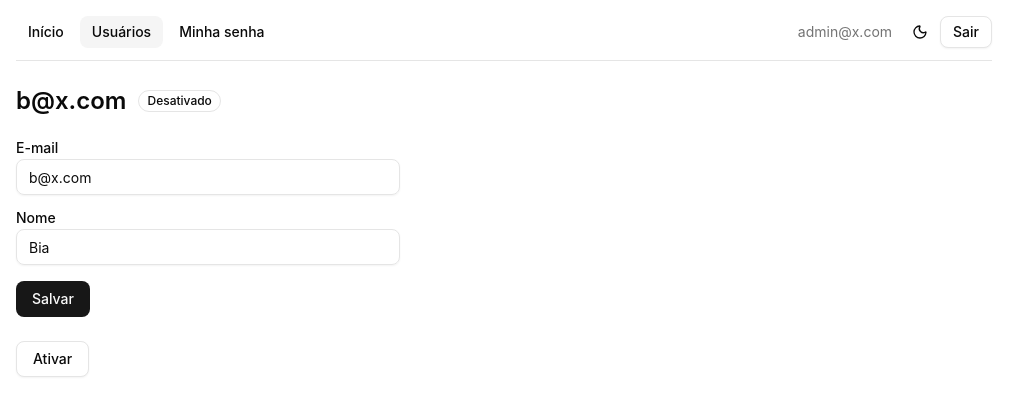
Test: UserDetail on /users/$id › activates
This screenshot has width=1009, height=394.
Expected: the text "Desativado" is shown, 138,90 -> 221,112
Click the button "Ativar" at (53,359), box 16,341 -> 89,377
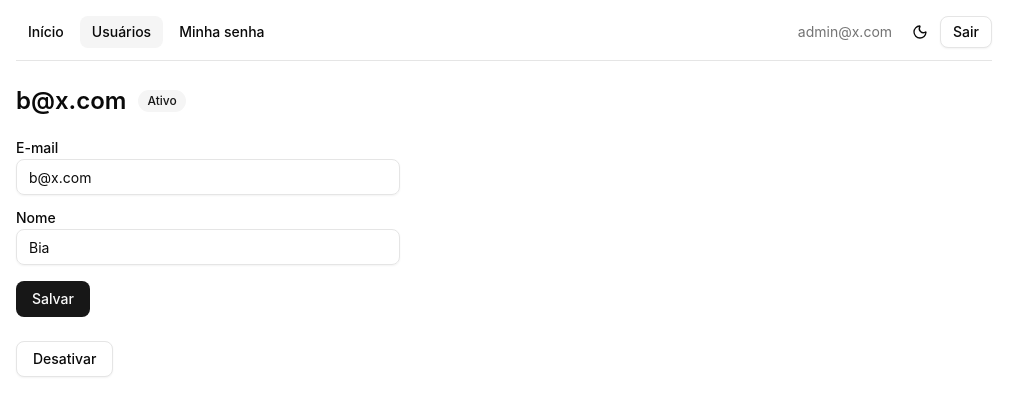
Now the text "Ativo" is shown, box 138,90 -> 186,112
